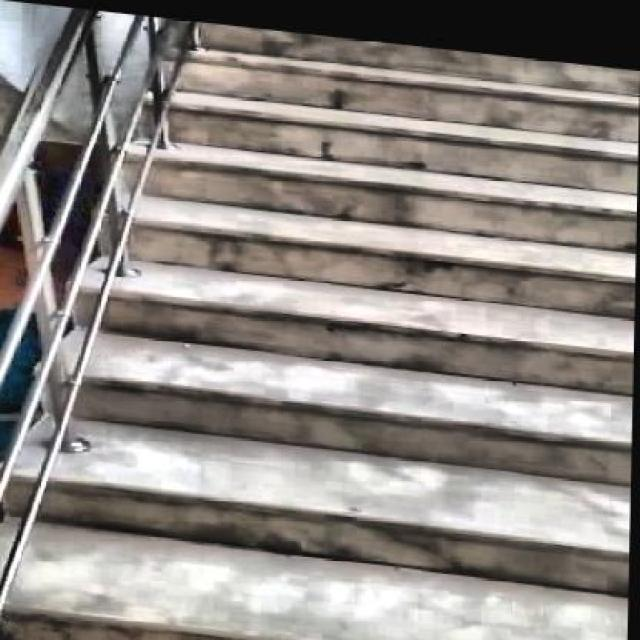stair: (18, 1, 640, 638)
